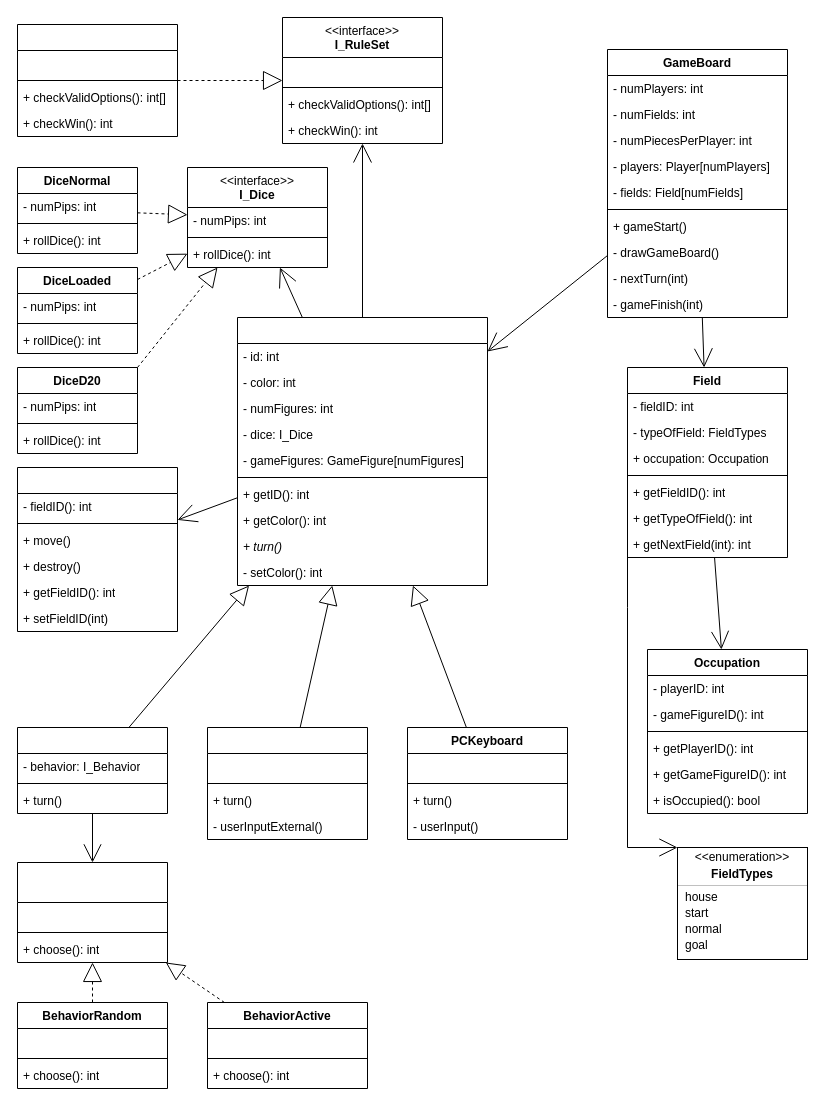
The diagram is 825 pixels wide and 1109 high, and some of its shapes have lost their labels. The shapes that lost their labels are listed below. From the top down, each one's box as (x1, y1, x2, y2) in pixels, then its label:
(16, 24, 178, 136): RuleSetStandard
(236, 316, 488, 586): Player
(16, 466, 178, 632): GameFigure
(16, 726, 168, 814): NPC
(206, 726, 368, 840): PCMicrocontroller
(16, 862, 168, 962): <<interface>> I_Behavior
